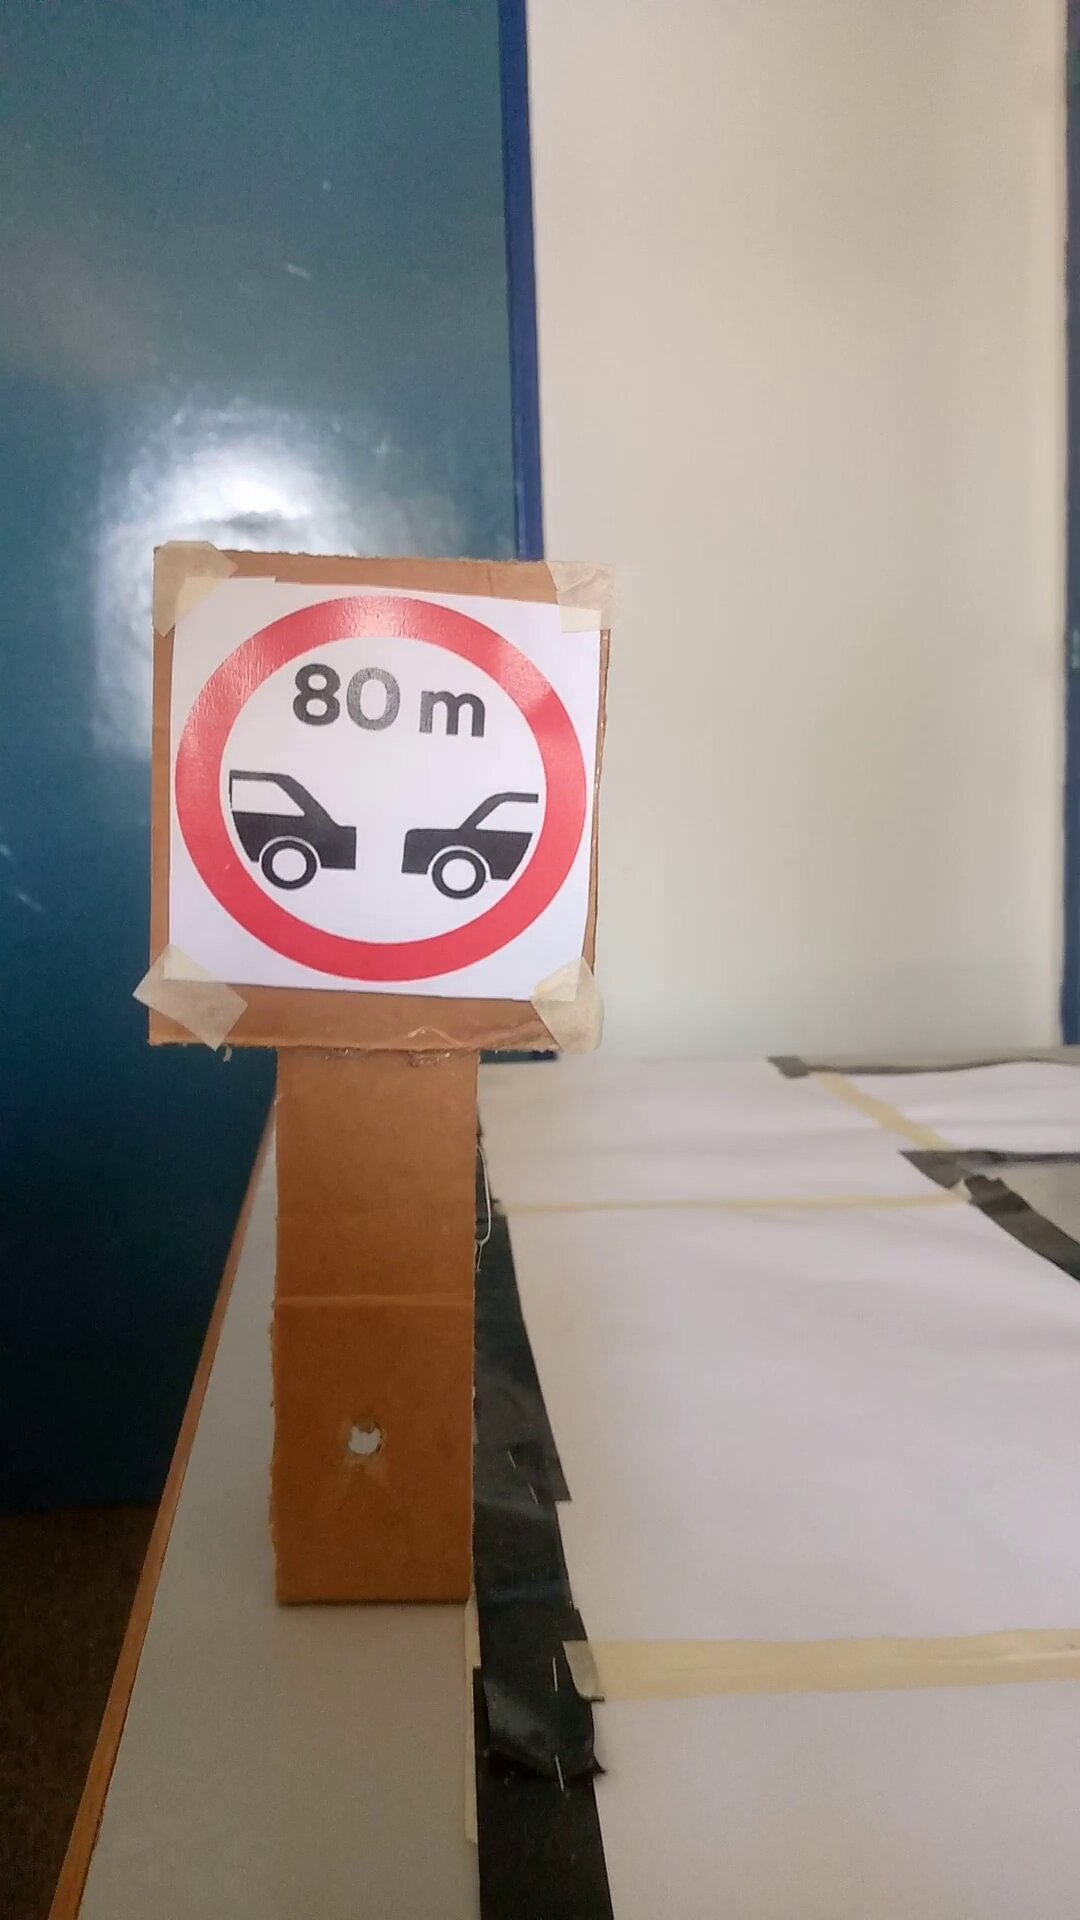panel001: (156, 551, 597, 1048)
